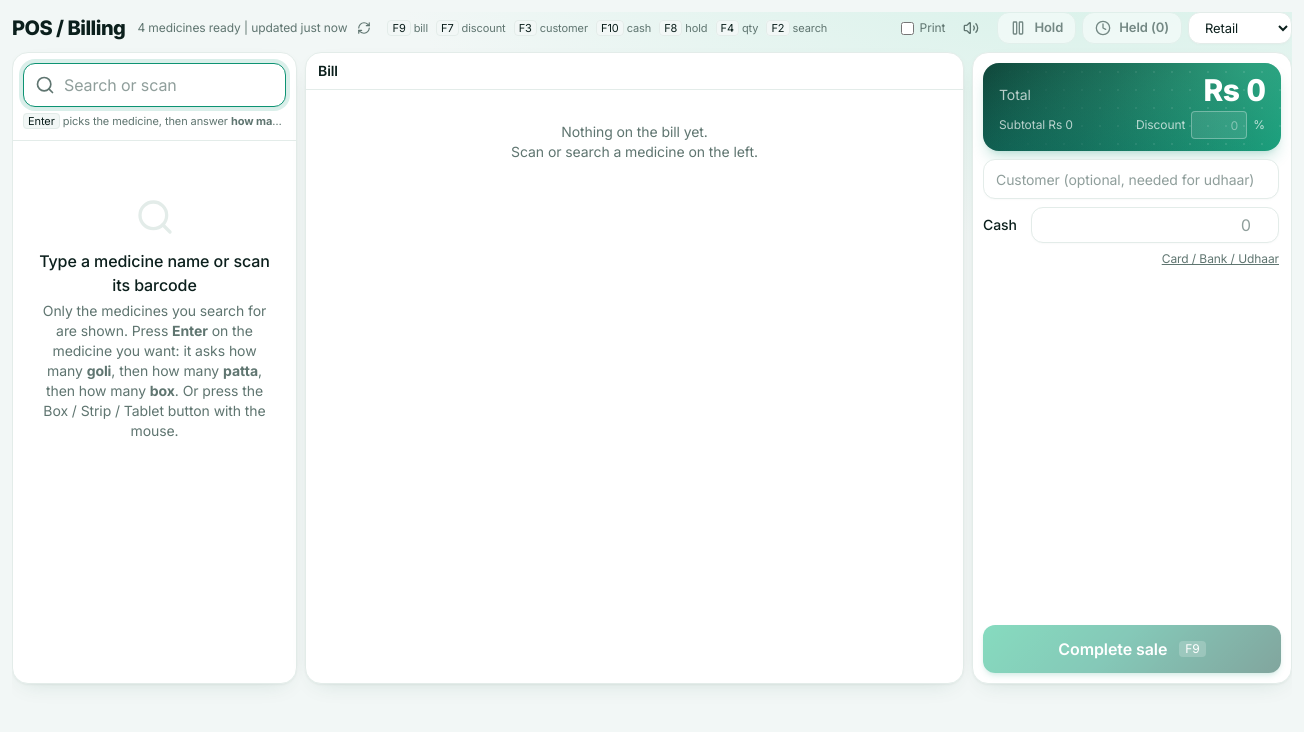
Test case: POS counter › Enter asks how many for the highlighted medicine; arrow keys choose another
Expected: the text "4 medicines ready | updated just now" is shown, [137,20,348,36]
In the field named "Search medicine": (154, 85) [23,63,286,107], type "paracetamol"
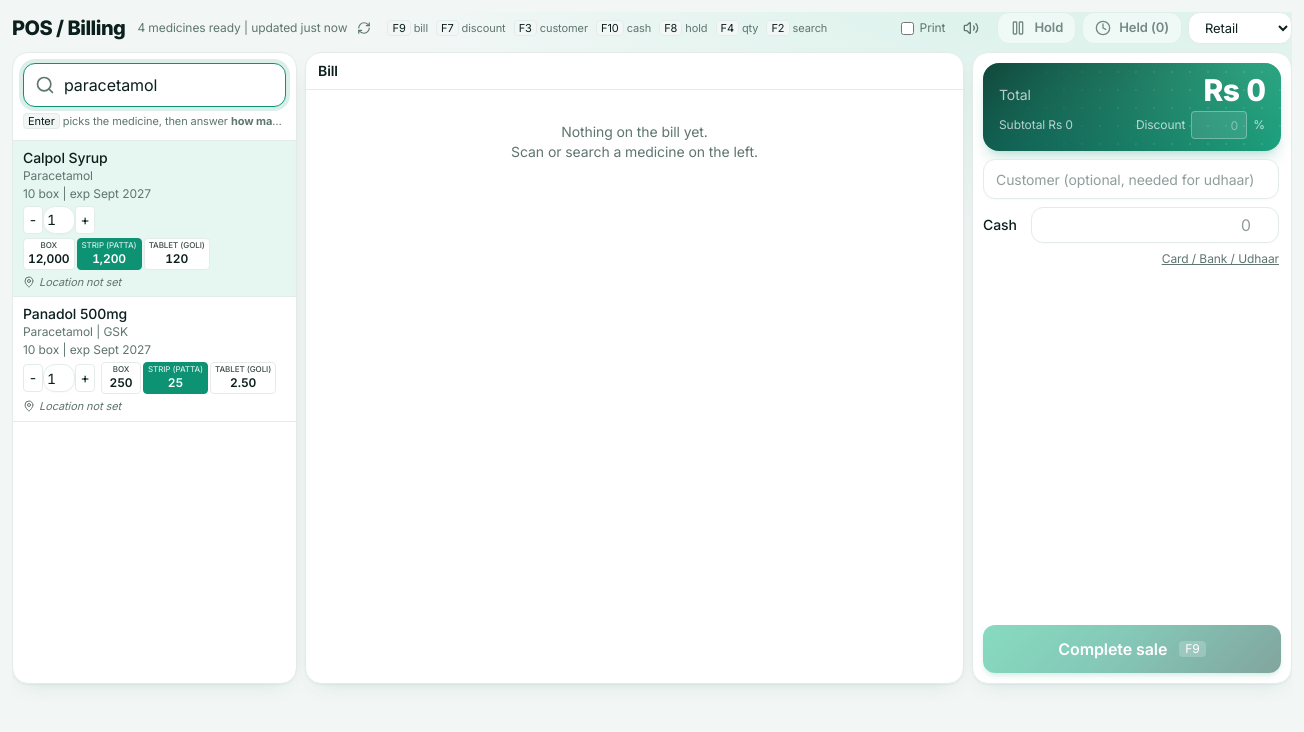
Expected: the option that starts with "Calpol Syrup" is shown, [13,140,296,297]
Press Arrowdown Enter
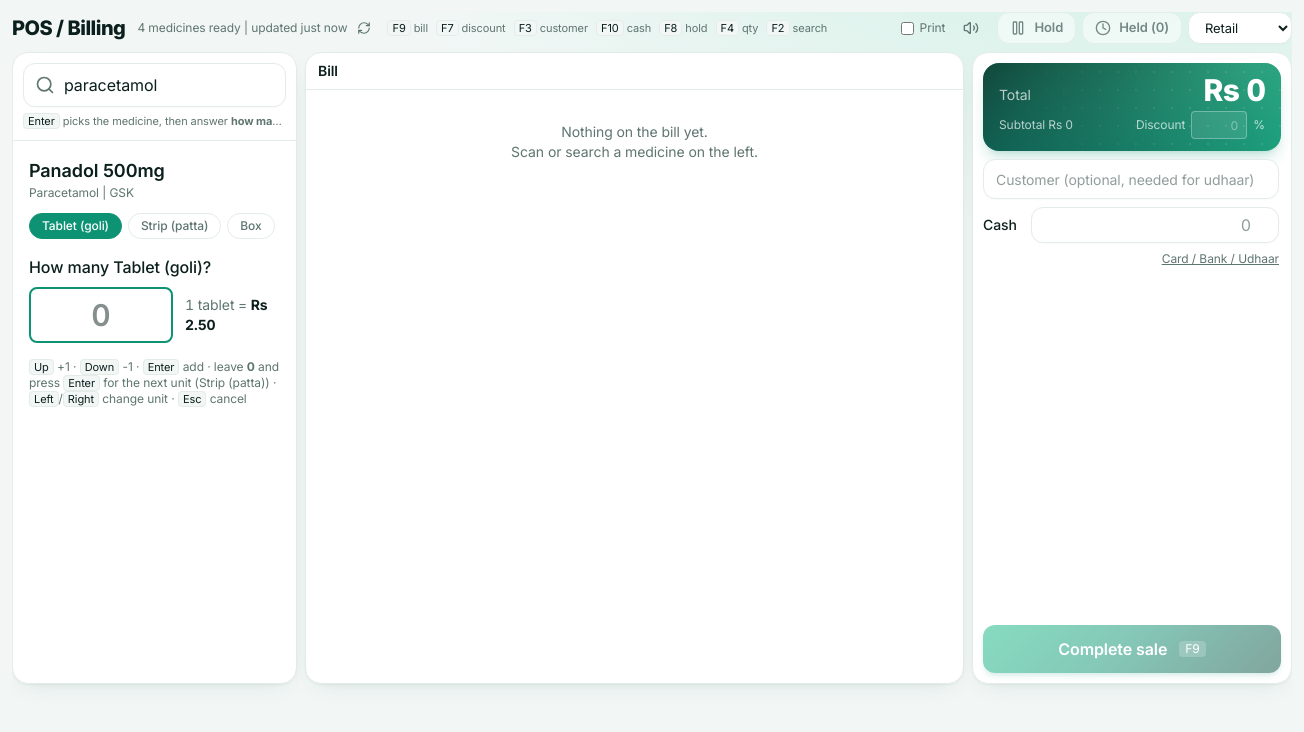
Expected: the element with test id "ask-qty" shows "Panadol 500mg", [29,160,165,180]
Type keys "3{Enter}"
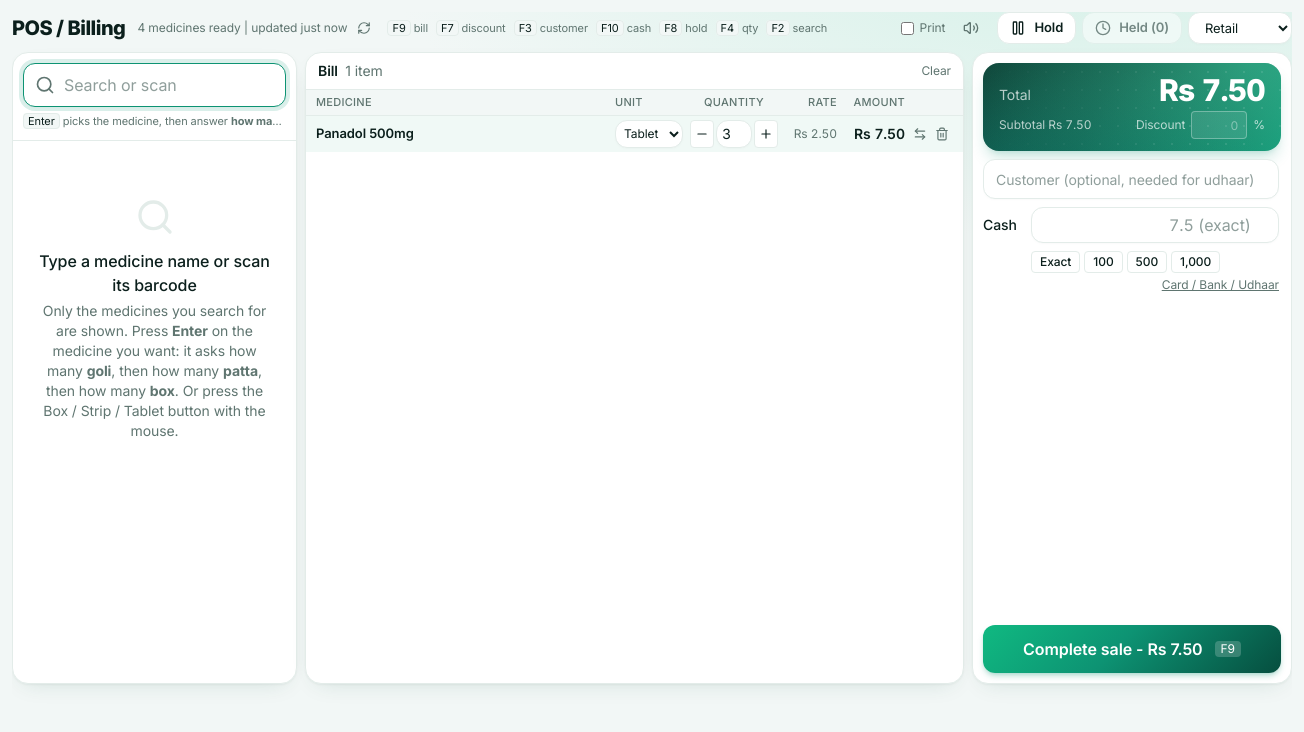
Expected: the list item named "Quantity" shows "Panadol 500mg", [316,125,414,141]
Expected: the number field named "Quantity" holds "3", [716,120,752,148]
Expected: the field named "Search medicine" is empty, [23,63,286,107]
